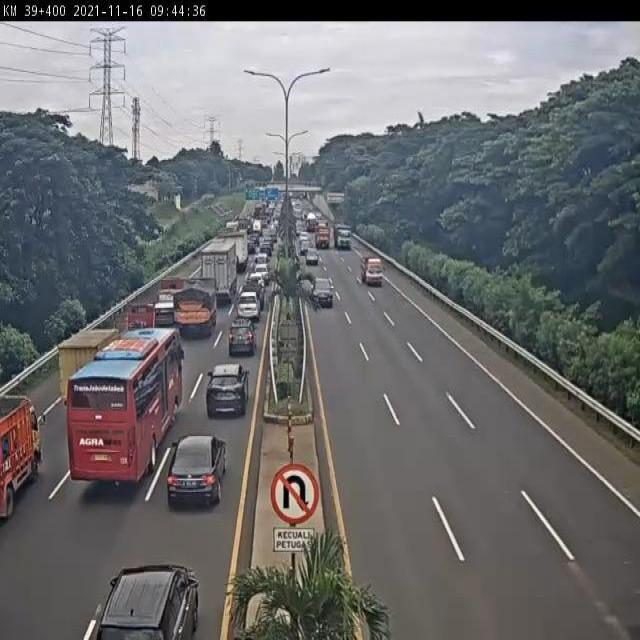big bus: (66, 328, 181, 481)
car: (170, 436, 226, 507), (205, 367, 246, 417), (229, 320, 256, 355), (309, 278, 335, 310), (237, 291, 259, 321), (242, 284, 265, 307), (247, 270, 266, 290)
small truck: (57, 328, 121, 399), (152, 280, 187, 329), (117, 304, 157, 345)
truck-l-: (199, 239, 238, 301)
truck-m-: (175, 284, 216, 337)
